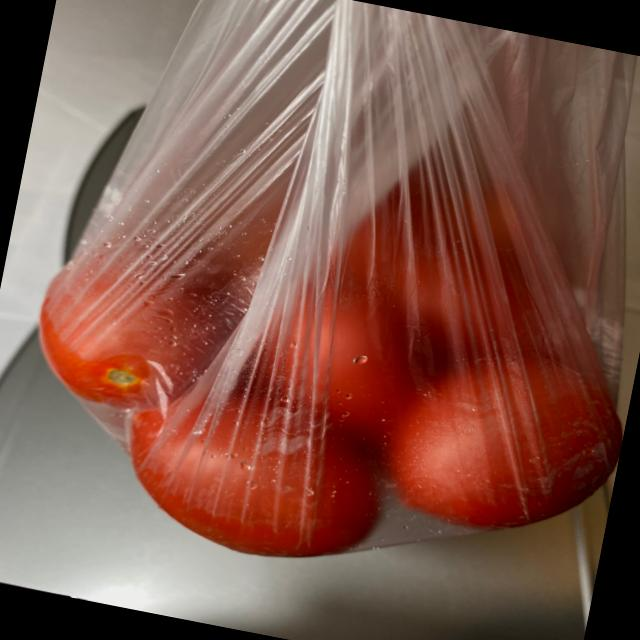tomato: (7, 113, 640, 605)
